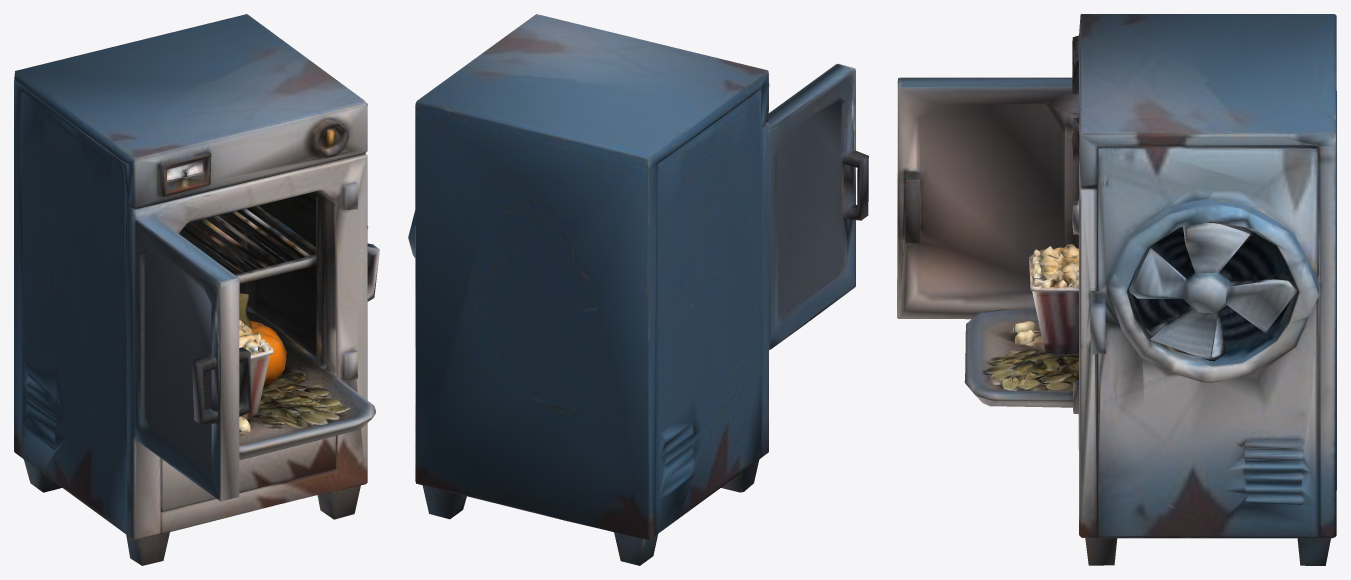
File: honganji-3.glb
3 renders of one model, left to right at view 1: azimuth 30°, elevation 25°; view 2: azimuth 150°, elevation 25°; view 3: azimuth 270°, elevation 25°, orthographic. The views are drawn at different scales.
Parts seen in each view (by area): view 1: node_0; view 2: node_0; view 3: node_0.
Part boxes in pixels (x1,y1,x2,y2): node_0: [14, 14, 379, 565]; node_0: [408, 14, 868, 565]; node_0: [897, 14, 1336, 565].
Size of the model in its own units: 0.5562 by 0.8183 by 0.7447.
1 material, 1 textured.
